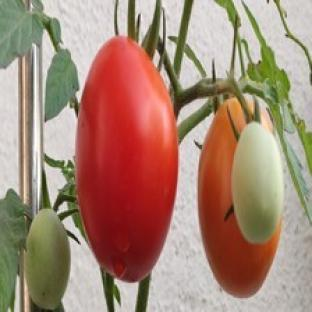Tomato: (76, 37, 178, 281), (198, 98, 281, 298), (232, 122, 284, 243), (24, 209, 71, 310)
